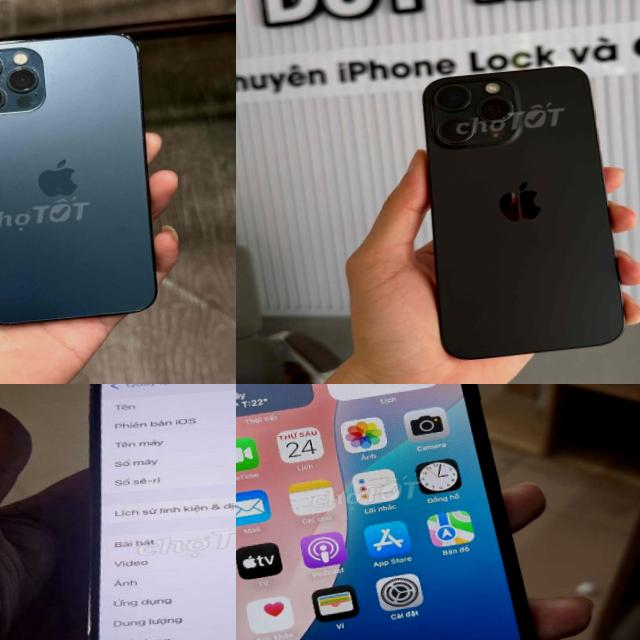gen_12_13: (0, 18, 178, 338)
gen_14: (63, 384, 236, 640)
gen_15: (400, 47, 640, 384)
gen_x_xs: (236, 384, 560, 640)
